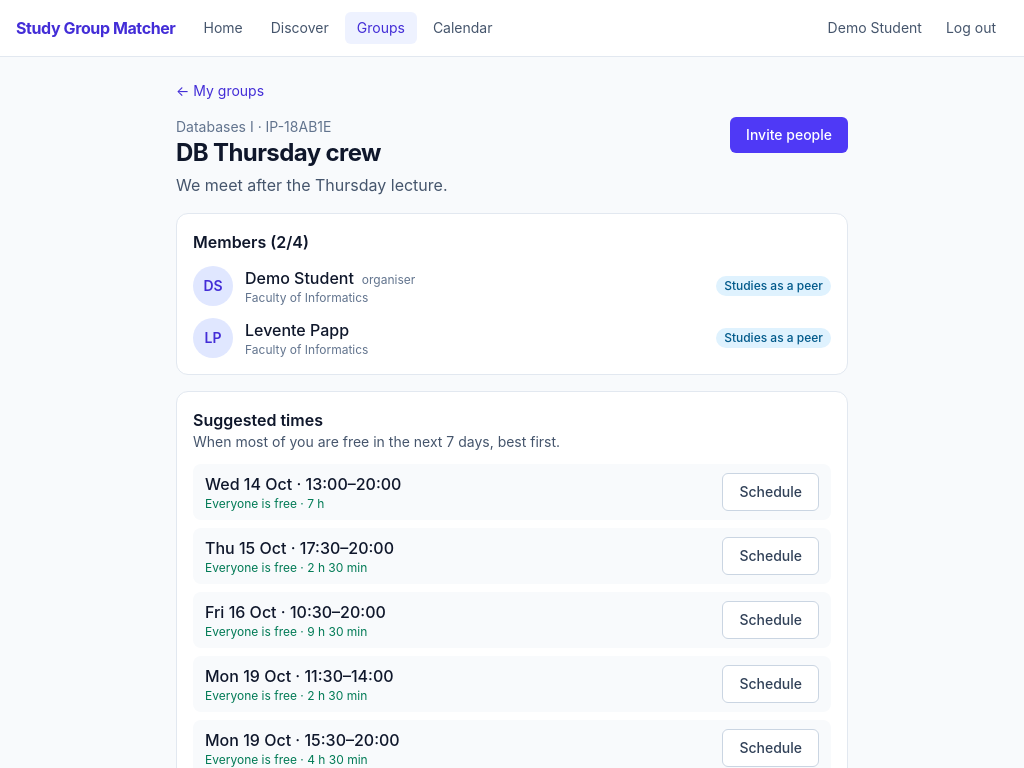
Test case: Book a room while scheduling › skips the room step for places that cannot be booked
The image size is (1024, 768).
Click the button "Schedule " in the row of "Wed 14 Oct · 13:00–20:00": (771, 492) [722,473,819,511]
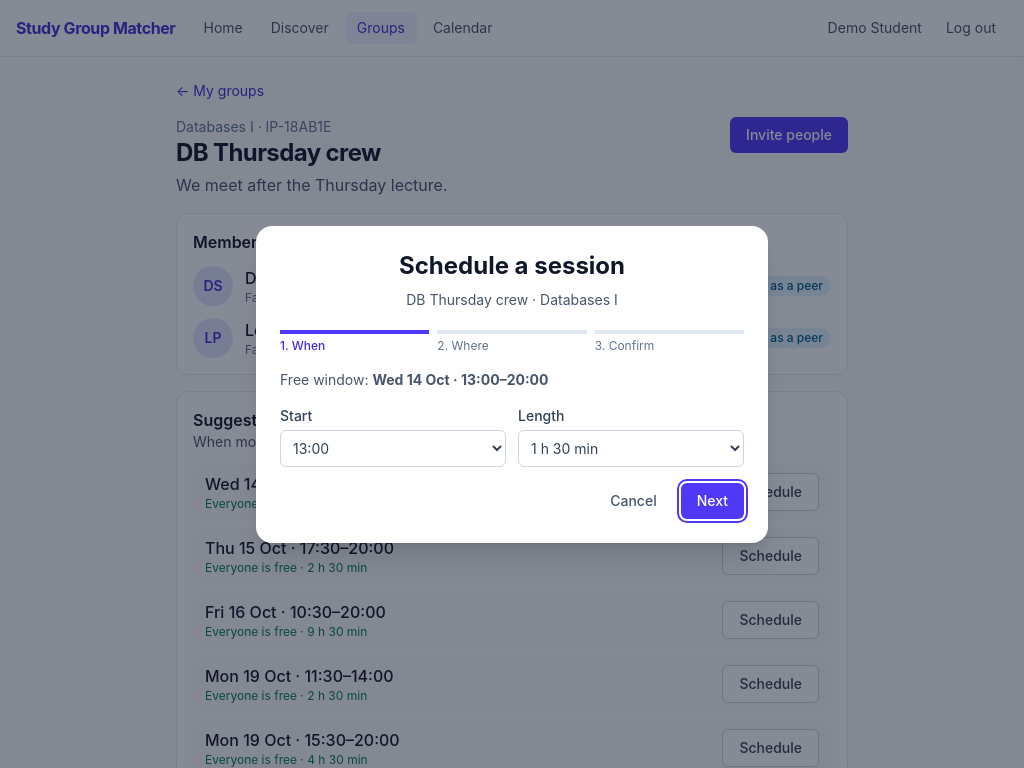
Click the button "Next": (712, 500) [681,482,744,518]
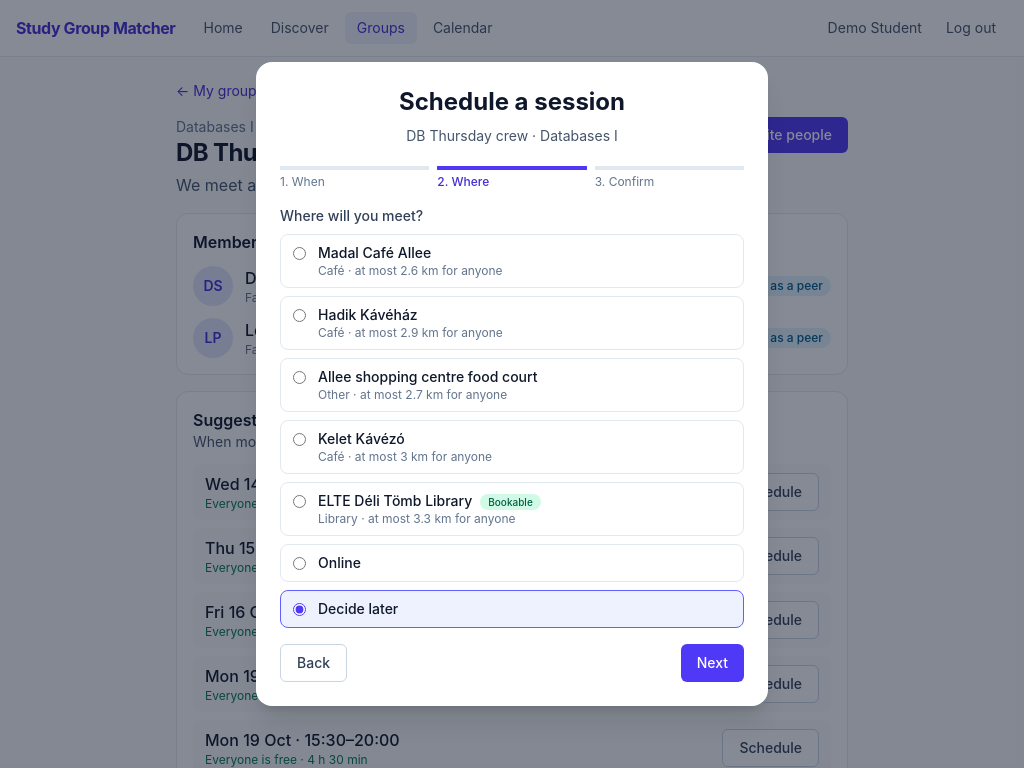
Click the radio button labelled "Madal Café Allee Café · at most 2.6 km for anyone": (300, 254) [293,247,306,260]
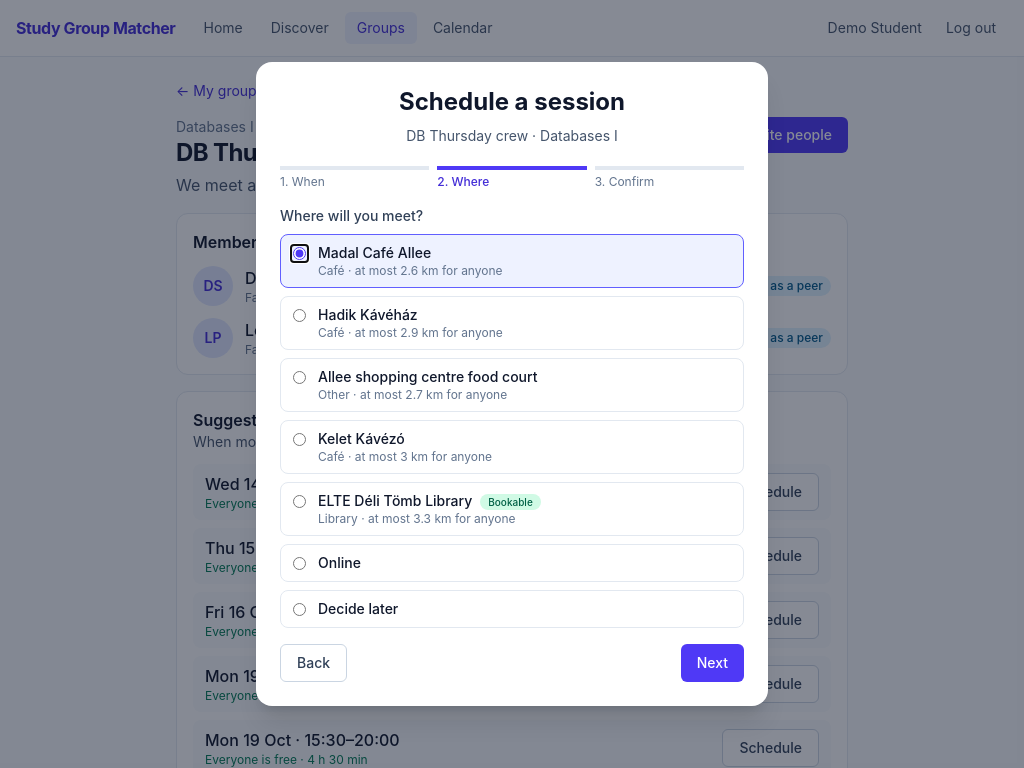
Click the button "Next": (712, 663) [681,644,744,682]
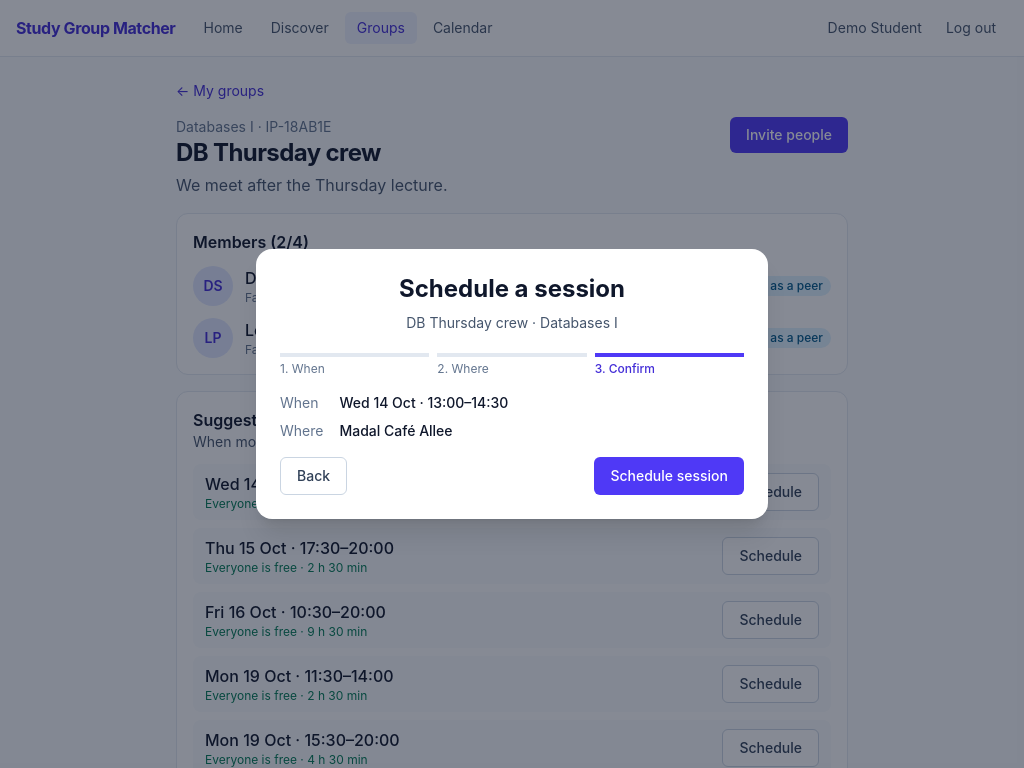
Expected: the list named "Steps" does not show "Room", [280,353,744,377]
Now the button "Schedule session" is shown, box [594,457,744,495]
